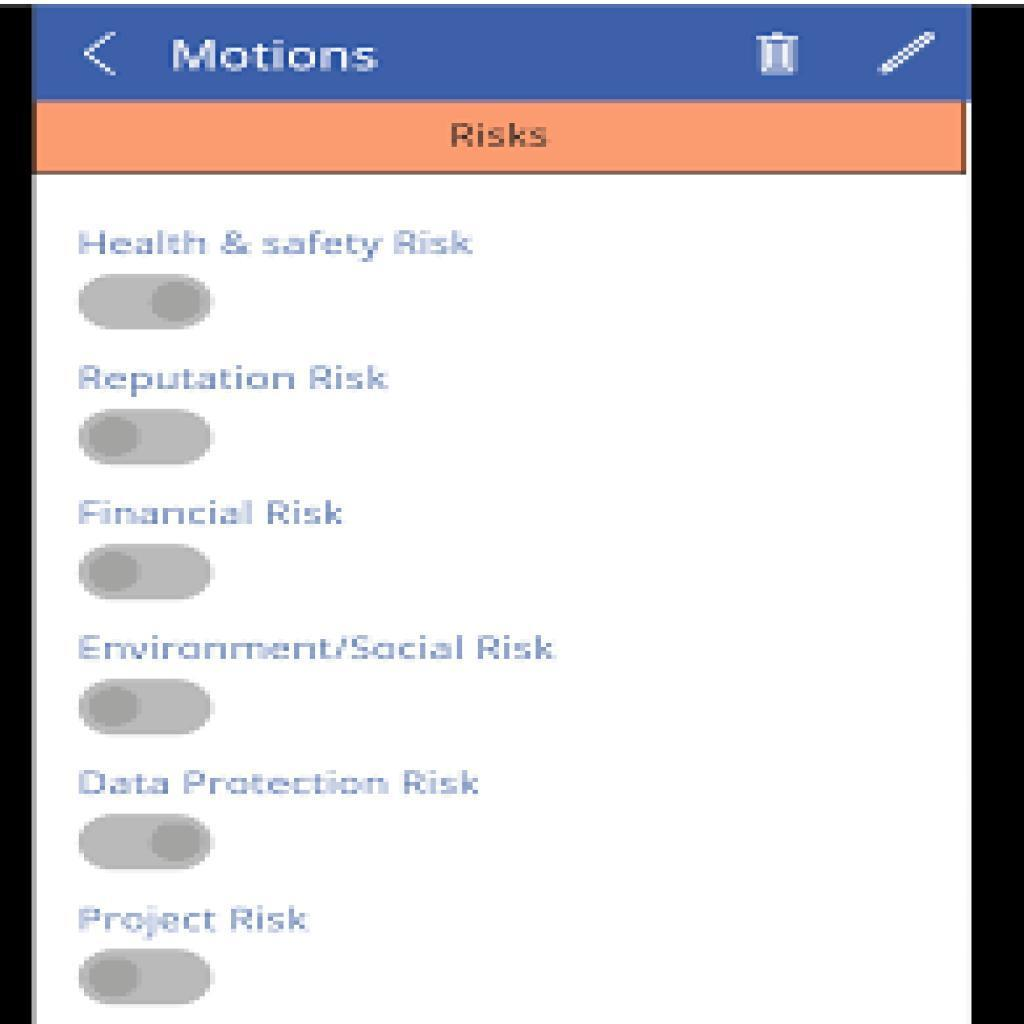icon: (875, 21, 946, 90), (755, 21, 806, 85), (81, 25, 130, 84), (759, 24, 804, 80)
switch: (77, 402, 215, 474), (76, 946, 220, 1009), (78, 811, 219, 875), (81, 674, 217, 738), (78, 273, 217, 335), (78, 546, 216, 601)
